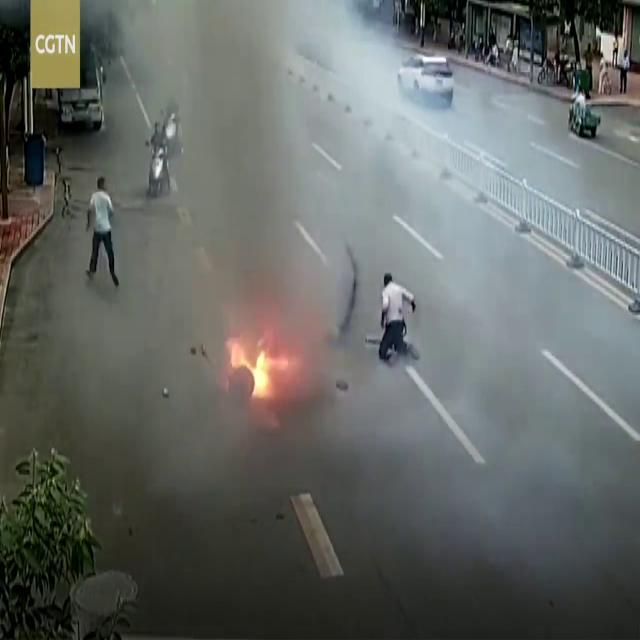Fire: (226, 333, 286, 404)
Smoke: (118, 0, 370, 345)
